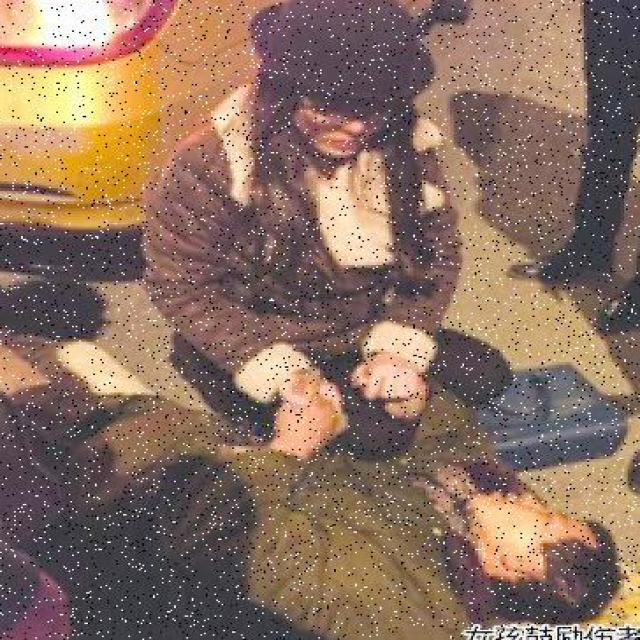fall: (86, 386, 631, 638)
